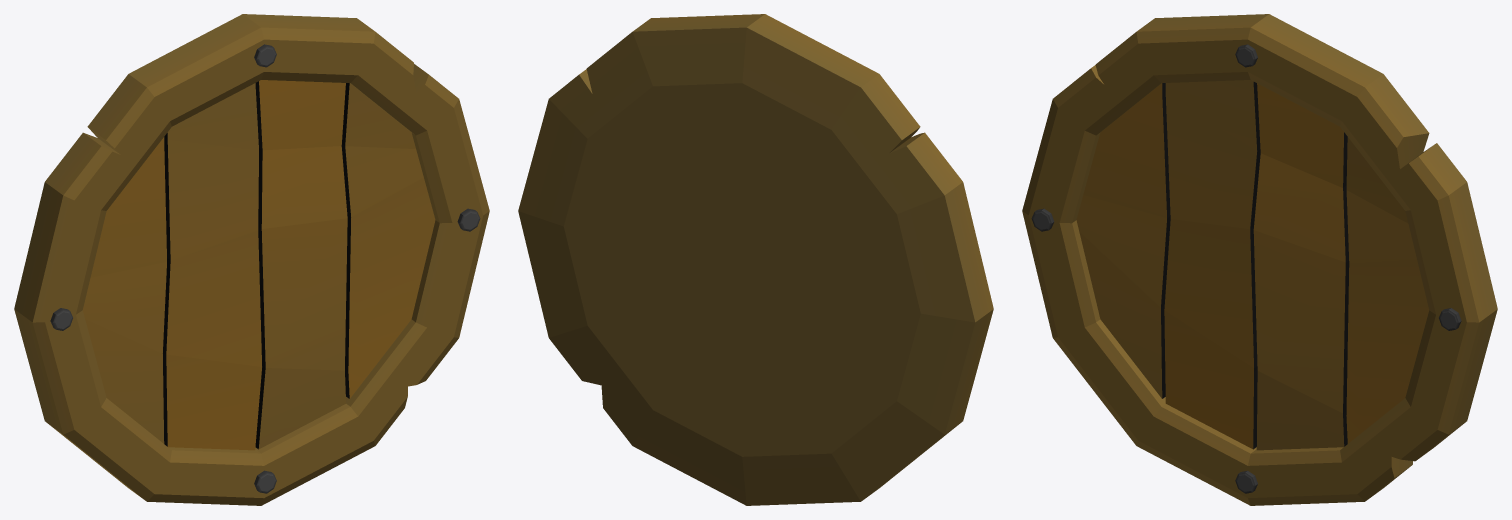
The model's file is shield_1.glb.
3 views of the same model, side by side, from view 1: azimuth 30°, elevation 25°; view 2: azimuth 150°, elevation 25°; view 3: azimuth 330°, elevation 25° (orthographic).
Visible parts, largest first — view 1: shield_1; view 2: shield_1; view 3: shield_1.
Boxes of the visible parts, x1,y1,x2,y2 form: shield_1: [14, 14, 489, 505]; shield_1: [518, 14, 993, 505]; shield_1: [1022, 14, 1497, 505].
Size of the model in its own units: 0.5055 by 0.5055 by 0.0551.
1 material, 1 textured.
